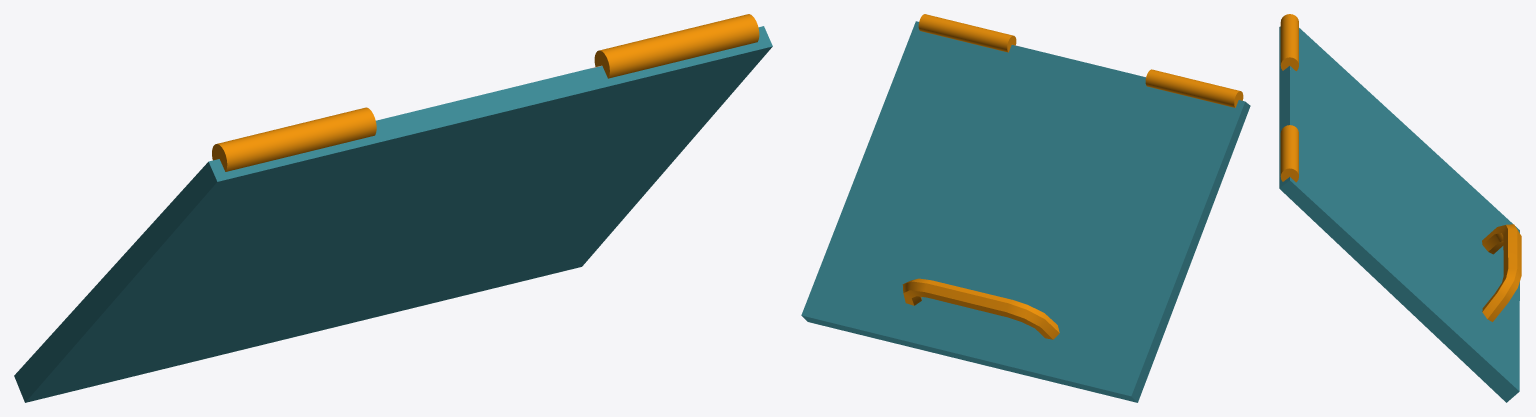
Rendered from Console_Left_Panel_Lid.fbx.
3 views of the same model, side by side, from view 1: azimuth 30°, elevation 25°; view 2: azimuth 150°, elevation 25°; view 3: azimuth 270°, elevation 25° (orthographic). The views are drawn at different scales.
Visible parts, largest first — view 1: Left_Console_Lid; view 2: Left_Console_Lid; view 3: Left_Console_Lid.
Boxes of the visible parts, bbox=[...] form: Left_Console_Lid: bbox=[14, 14, 772, 402]; Left_Console_Lid: bbox=[801, 14, 1250, 402]; Left_Console_Lid: bbox=[1279, 14, 1521, 402].
Size of the model in its own units: 483 by 322 by 306.
